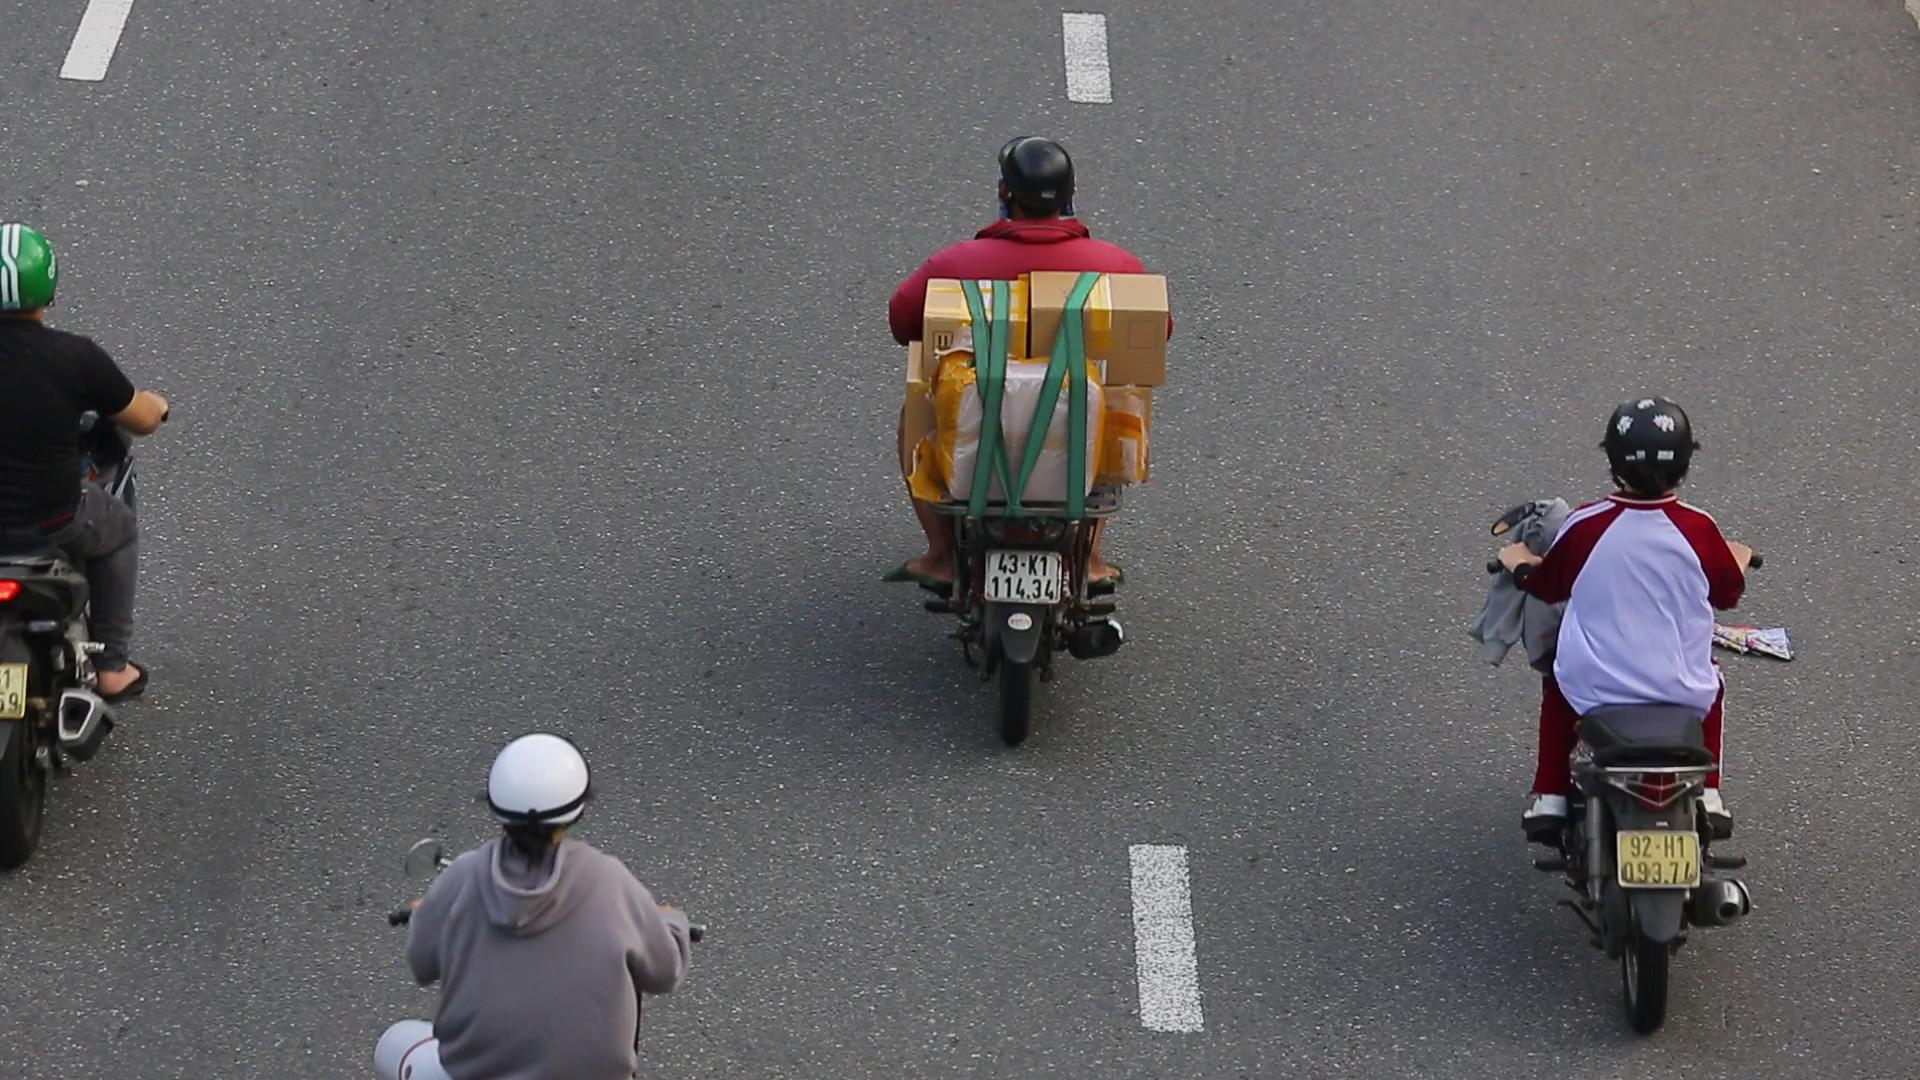motobike: (1487, 372, 1785, 1040), (882, 128, 1164, 758)
